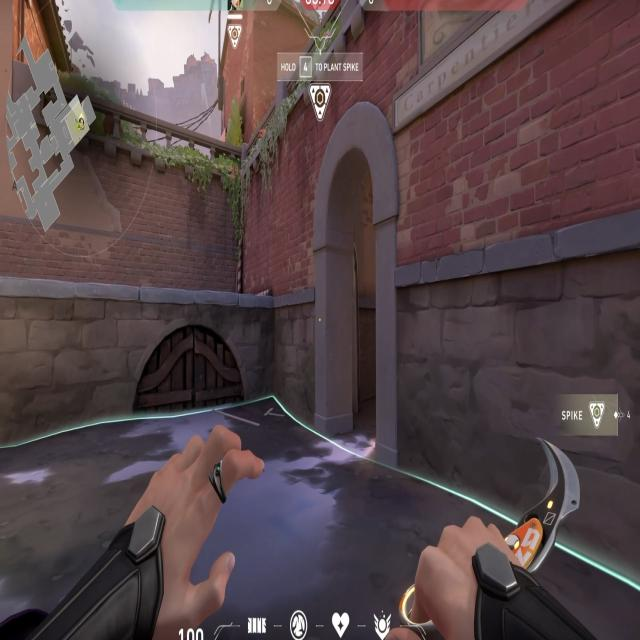B_Boathouse: (304, 90, 407, 467)
